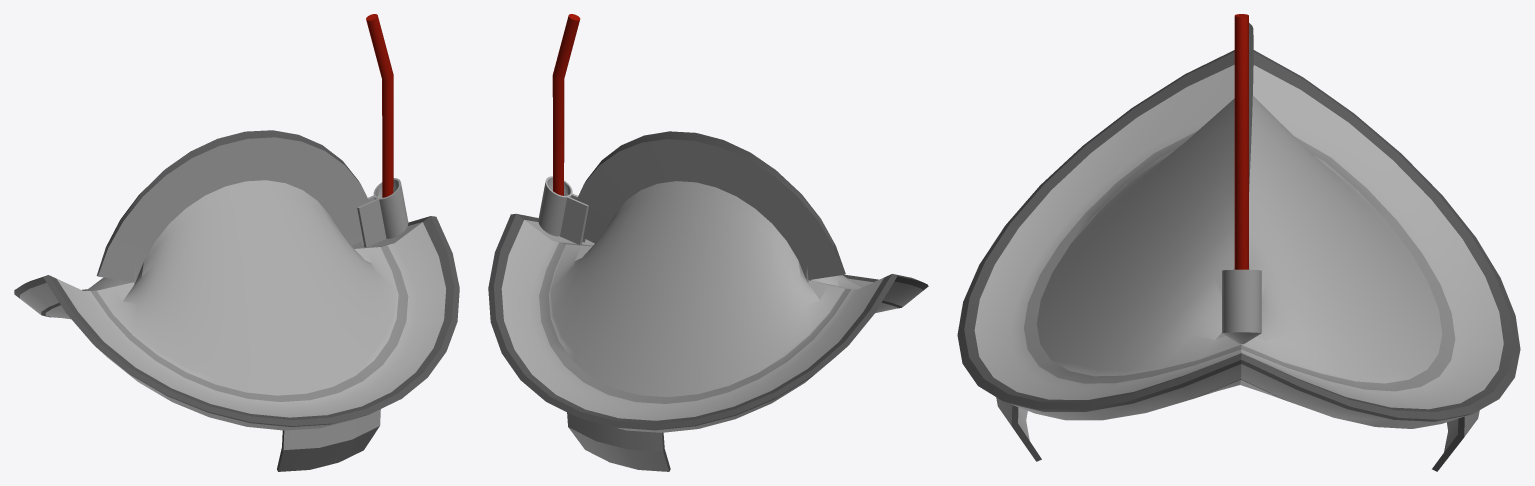
The model's file is musketeerhelmet.fbx.
3 renders of one model, left to right at view 1: azimuth 30°, elevation 25°; view 2: azimuth 150°, elevation 25°; view 3: azimuth 270°, elevation 25°, orthographic. The views are drawn at different scales.
Parts seen in each view (by area): view 1: Sphere; view 2: Sphere; view 3: Sphere.
Boxes of the visible parts, box(x1,y1,x2,y2) form: Sphere: box(14, 14, 459, 471); Sphere: box(488, 14, 928, 471); Sphere: box(957, 14, 1520, 471).
Size of the model in its own units: 377 by 340 by 336.
